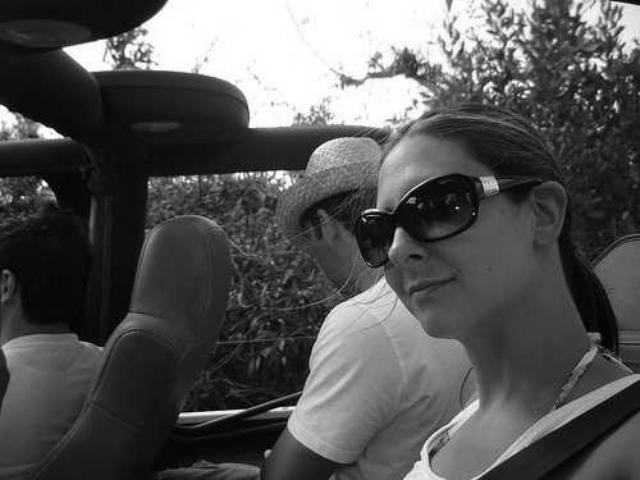Seatbelt: (470, 362, 640, 480)
